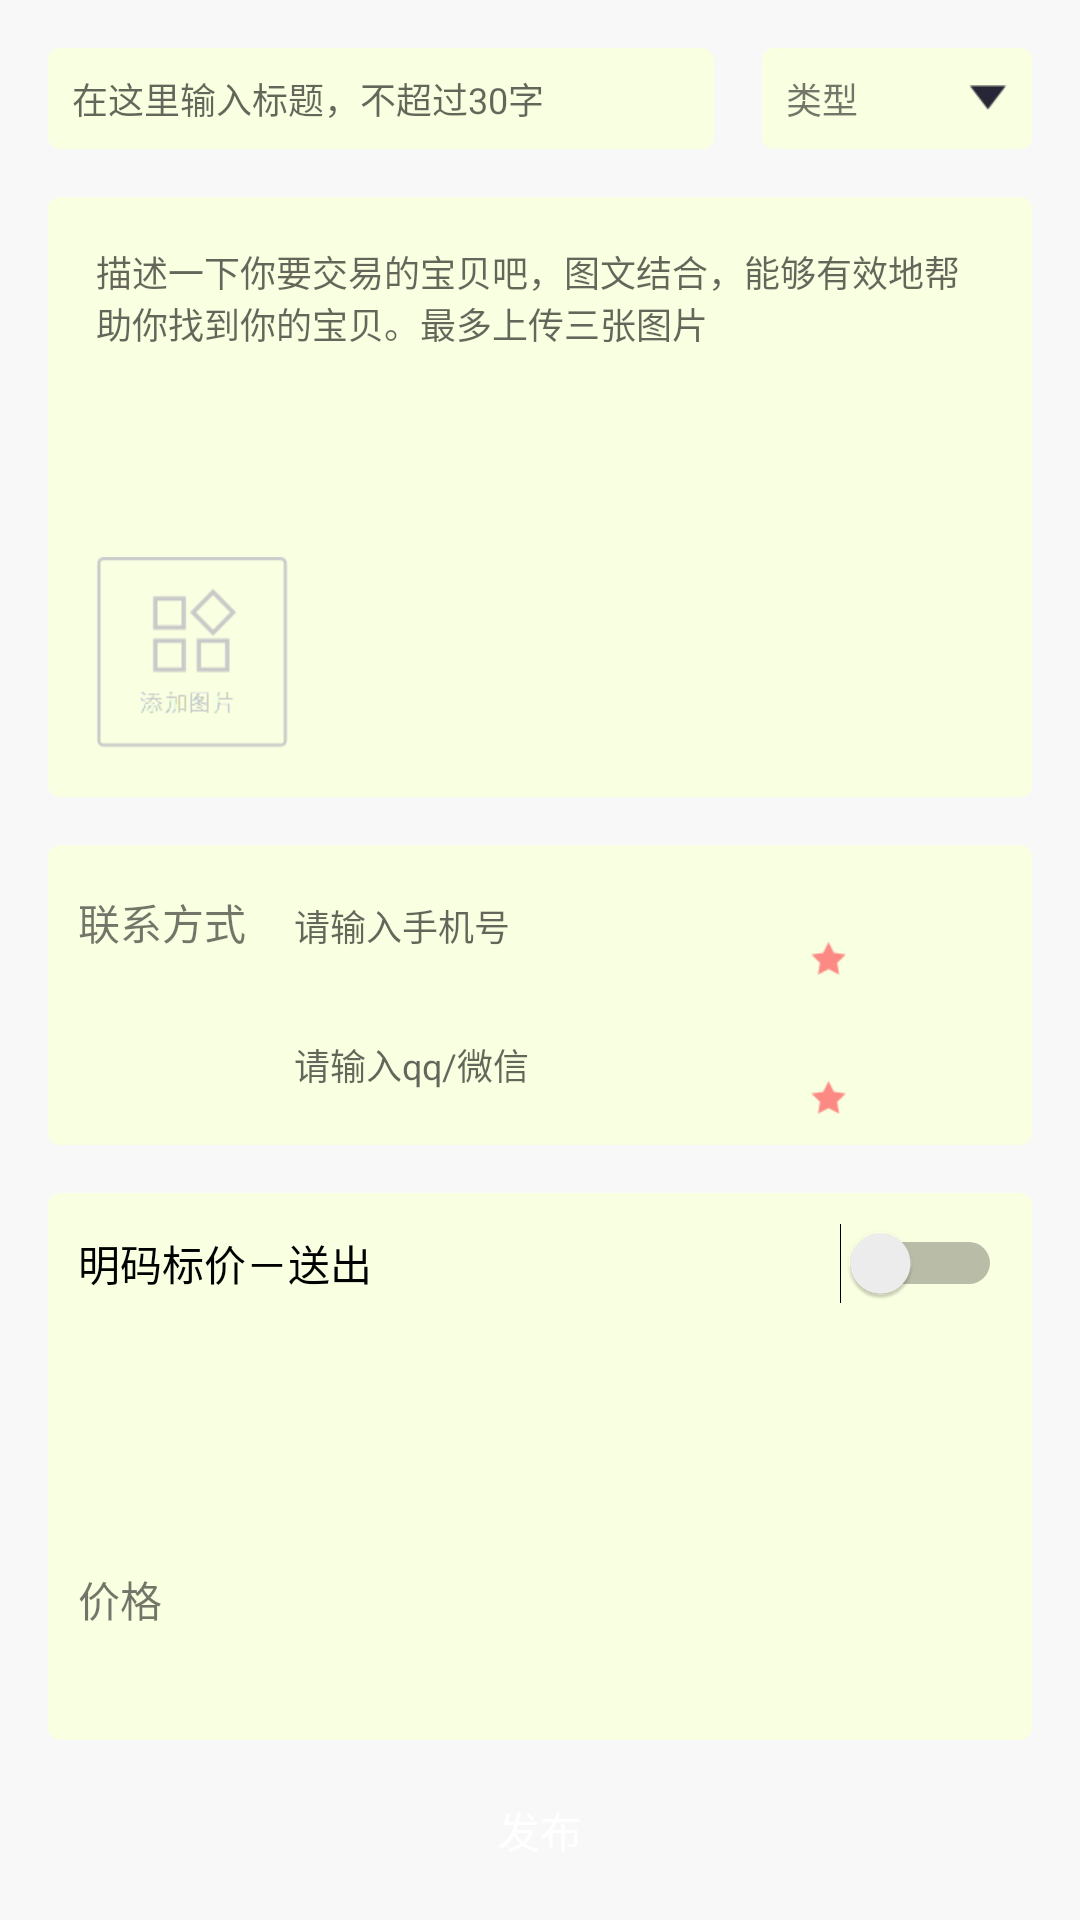

Screen size 1080x1920. Icon name, then its box in pixels as (x1=x1, y1=y1, x2=x2, y2=y2):
write lost star: (x1=812, y1=942, x2=846, y2=975), (x1=812, y1=1081, x2=846, y2=1114)
